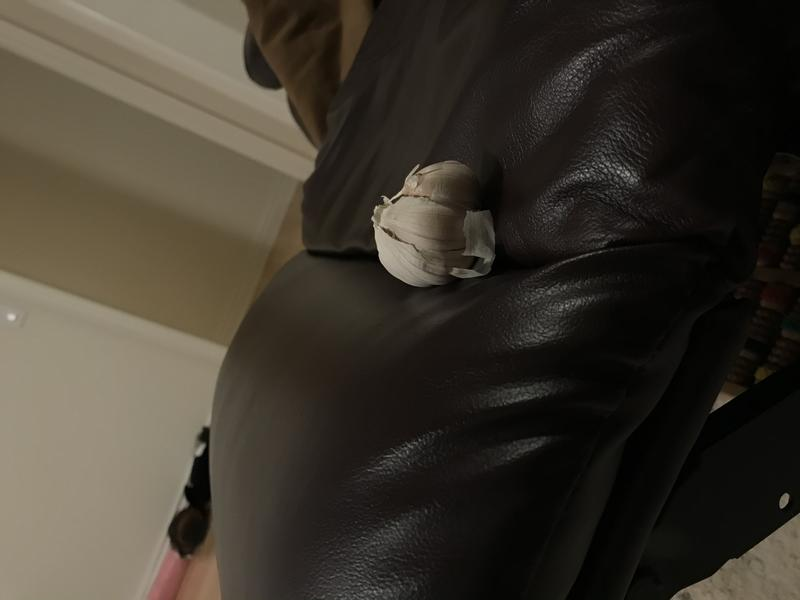garlic: (356, 152, 511, 300)
